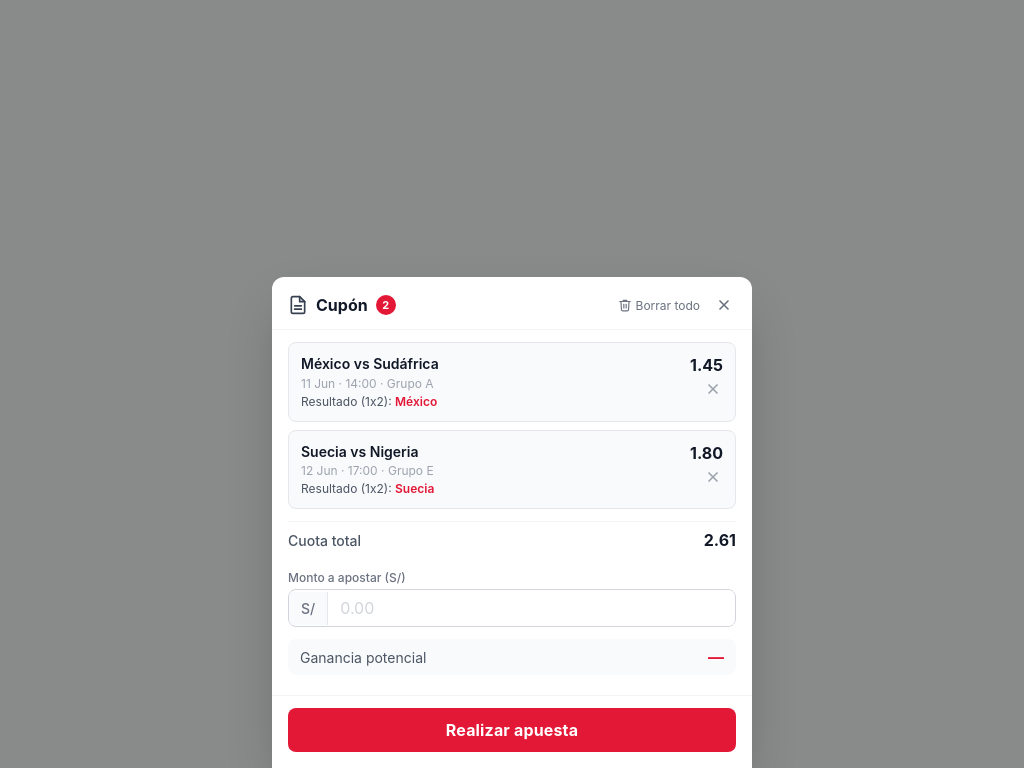
Scenario: BettingSlip — gestión de selecciones › el botón de quitar elimina solo esa selección
Click the button named "Quitar México vs Sudáfrica" at (713, 389), box [703,379,723,399]
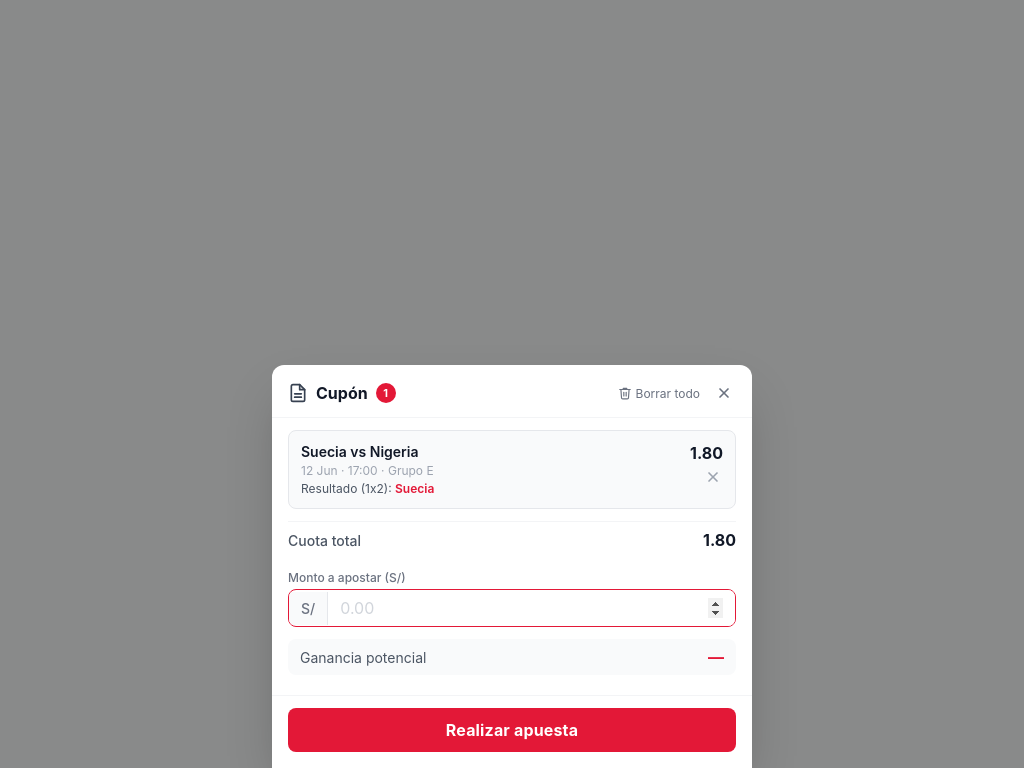
Expected: the text "Suecia vs Nigeria" is shown, [301,442,418,460]
Expected: the text "México vs Sudáfrica" is gone
